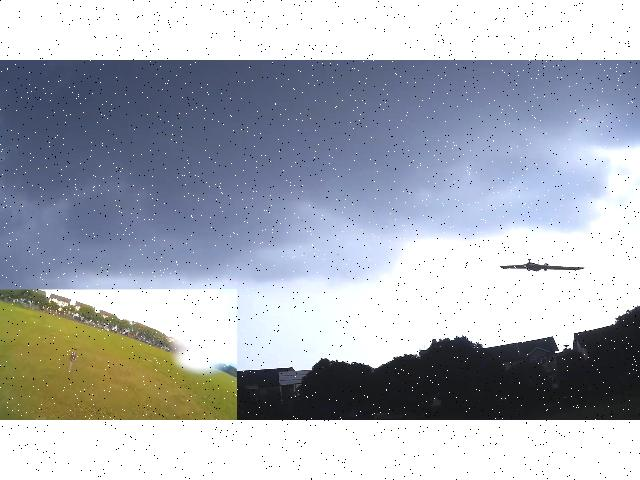Anti-Drone: (500, 260, 584, 272)
